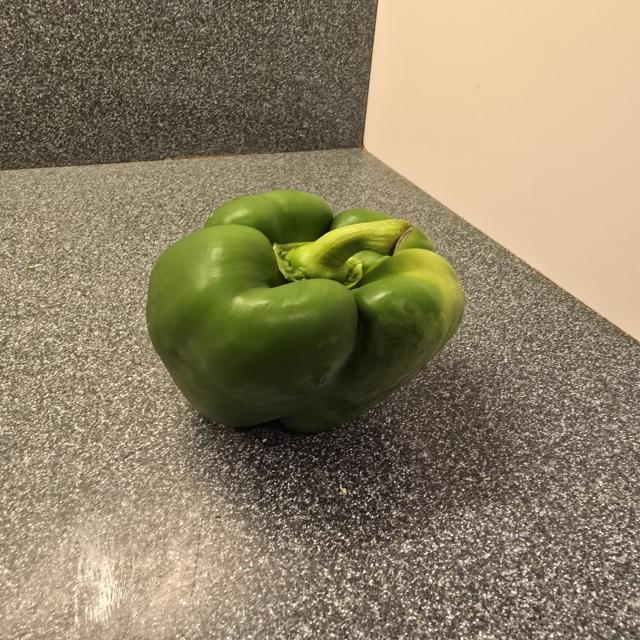Bell Pepper: (134, 183, 484, 447)
